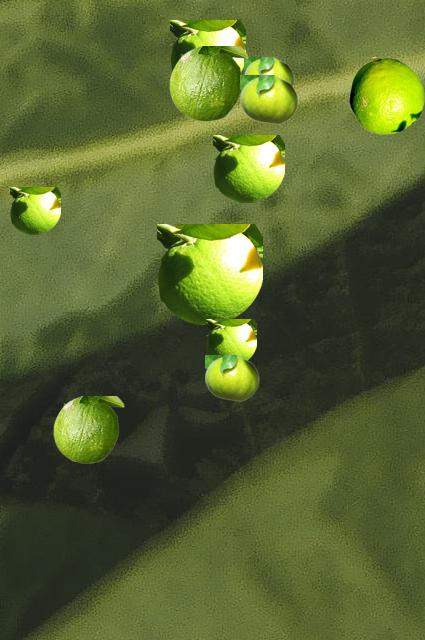dalandan: (157, 224, 261, 323), (169, 46, 247, 120), (349, 57, 423, 133), (53, 396, 123, 462), (213, 135, 283, 201), (170, 20, 244, 71), (240, 75, 297, 123), (205, 355, 258, 400), (10, 187, 59, 233), (206, 319, 255, 359), (244, 57, 293, 85)
